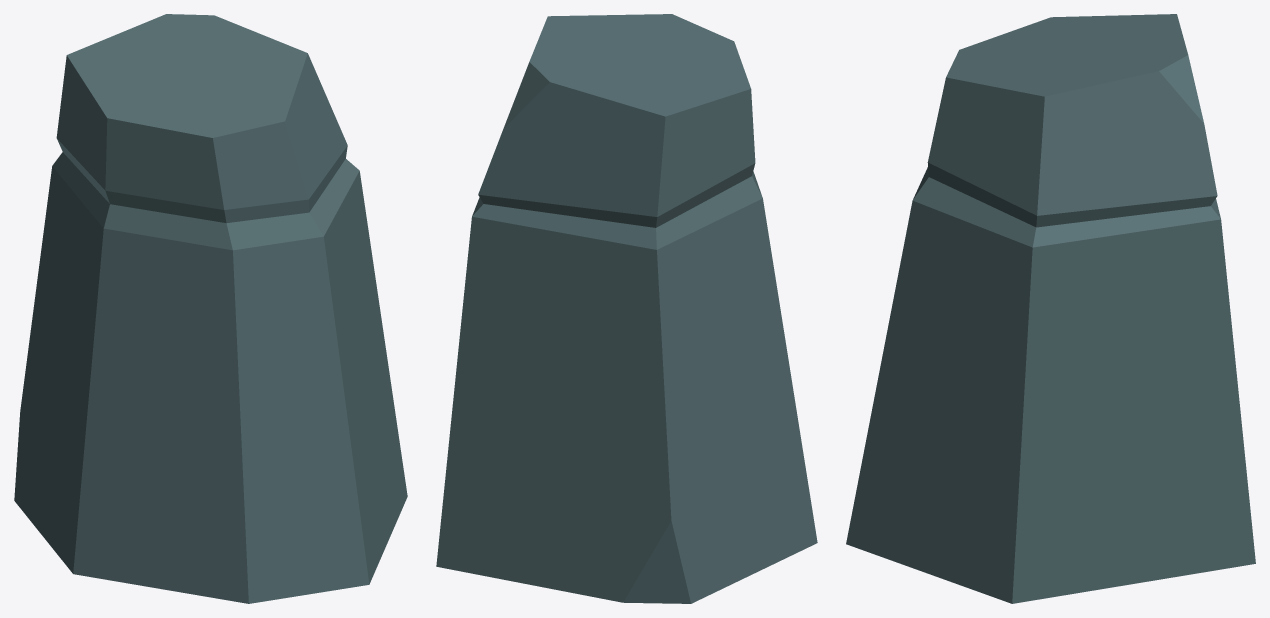
File: brigesCube_006.fbx
The picture shows the model from 3 angles, left to right: view 1: azimuth 30°, elevation 25°; view 2: azimuth 150°, elevation 25°; view 3: azimuth 270°, elevation 25°; orthographic projection. The views are drawn at different scales.
Visible parts, largest first — view 1: Cube.006; view 2: Cube.006; view 3: Cube.006.
Part boxes in pixels (left/top/right/bottom): Cube.006: left=14, top=14, right=407, bottom=603; Cube.006: left=436, top=14, right=817, bottom=603; Cube.006: left=846, top=14, right=1255, bottom=603.
Size of the model in its own units: 58.4 by 77.49 by 61.05.
